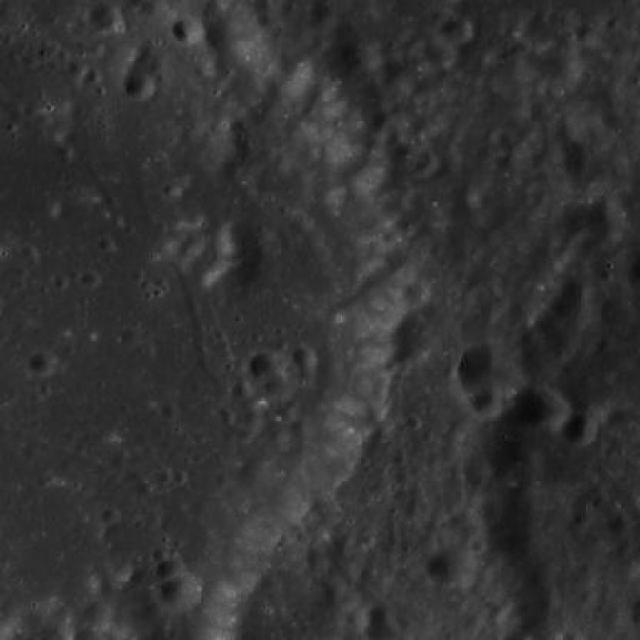crater: (458, 342, 524, 404), (198, 0, 260, 57), (512, 382, 568, 436), (562, 142, 615, 190), (532, 43, 582, 89), (428, 543, 476, 588), (155, 570, 200, 612), (336, 38, 378, 80), (584, 198, 627, 238), (392, 318, 434, 358), (554, 290, 592, 328), (558, 409, 597, 446), (88, 3, 125, 37), (494, 146, 528, 180), (472, 389, 506, 420), (547, 328, 581, 358), (424, 38, 456, 68), (249, 350, 282, 379), (285, 417, 318, 446), (442, 14, 473, 44), (448, 192, 479, 222), (307, 494, 338, 524), (124, 72, 156, 101), (562, 272, 592, 302), (28, 349, 57, 377), (447, 509, 476, 537), (572, 21, 602, 48), (173, 15, 202, 42), (264, 374, 292, 400), (136, 0, 169, 22), (404, 280, 430, 306), (157, 554, 183, 580), (368, 603, 394, 628), (293, 346, 318, 369), (344, 608, 368, 630), (121, 325, 144, 347), (486, 594, 509, 616), (556, 120, 578, 142), (176, 240, 198, 260), (392, 142, 414, 162), (610, 513, 632, 533), (232, 380, 252, 400), (4, 100, 24, 120), (67, 59, 87, 78), (100, 506, 120, 525), (276, 404, 296, 422), (242, 407, 262, 425), (54, 142, 72, 161), (414, 159, 432, 176), (236, 426, 255, 442), (163, 182, 180, 198), (98, 236, 114, 253), (84, 272, 101, 288), (160, 404, 178, 419), (136, 480, 152, 496), (0, 0, 2, 2), (0, 1, 1, 2)
